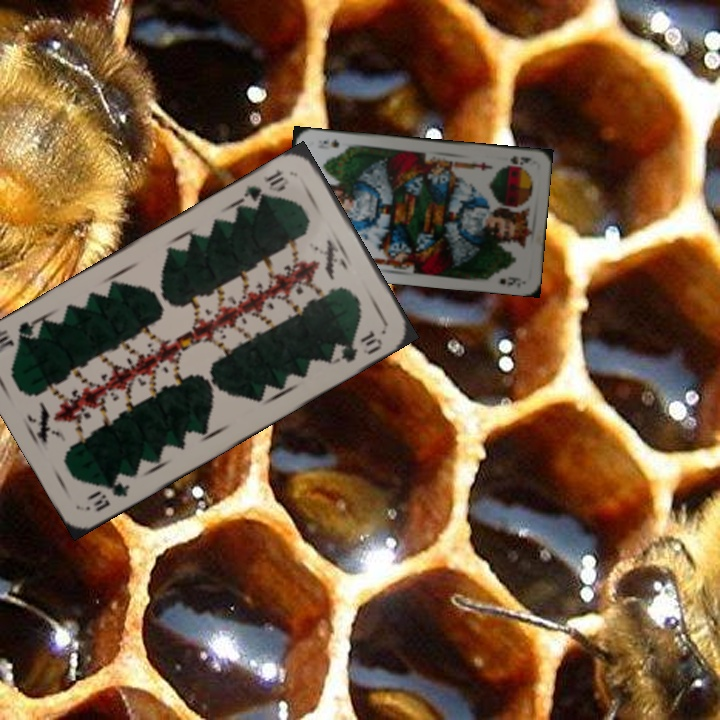G10: (238, 164, 288, 206), (83, 474, 133, 515)
SK: (503, 152, 534, 170)
